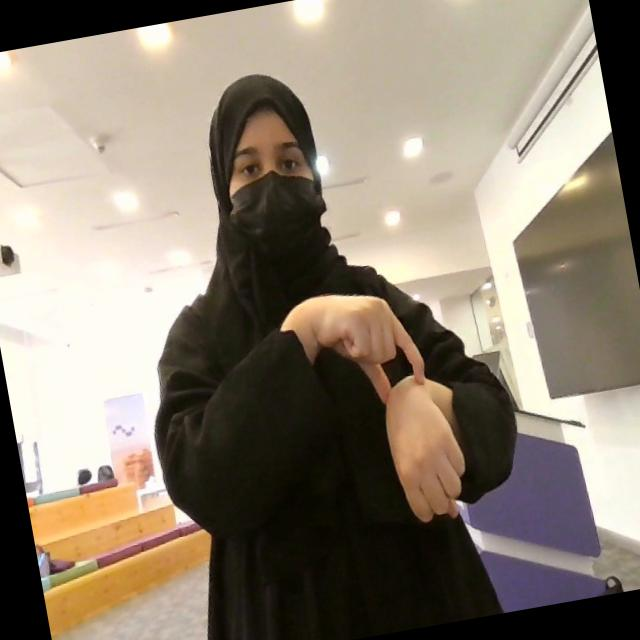appointment: (294, 270, 476, 543)
